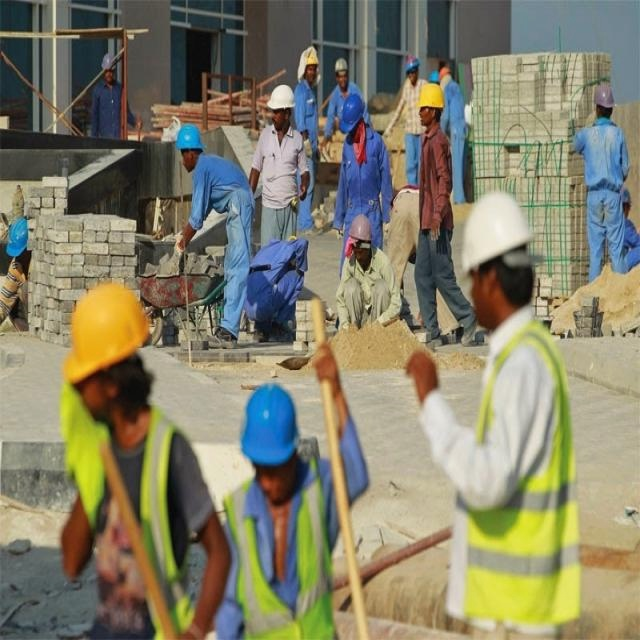Con_Chaleco: (458, 332, 585, 627), (67, 402, 198, 640), (226, 457, 337, 640)
